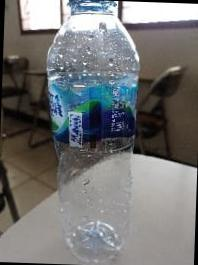Plastik: (47, 0, 139, 264)
